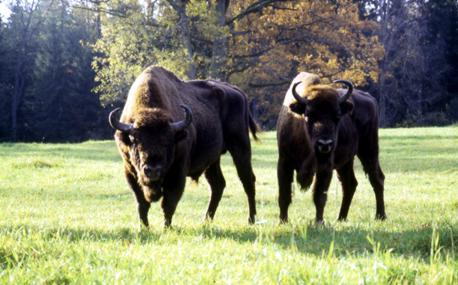zubr: (90, 48, 264, 239), (266, 50, 407, 242)
